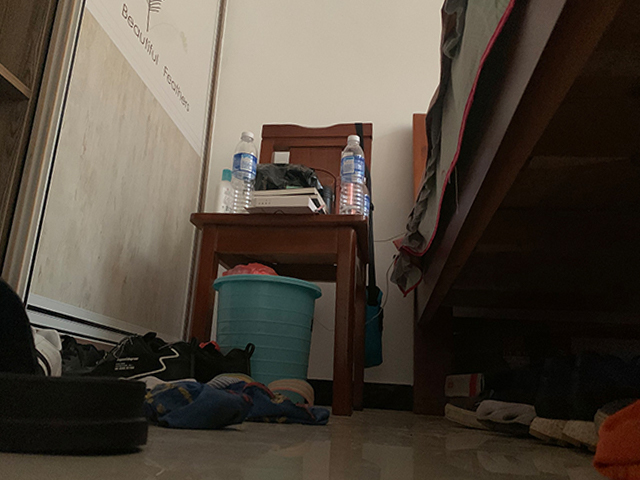bed: (391, 1, 640, 417)
slippers: (1, 280, 151, 455)
socks: (225, 372, 329, 423), (155, 377, 249, 426)
stool: (174, 122, 372, 417)
trashcan: (213, 273, 322, 406)
